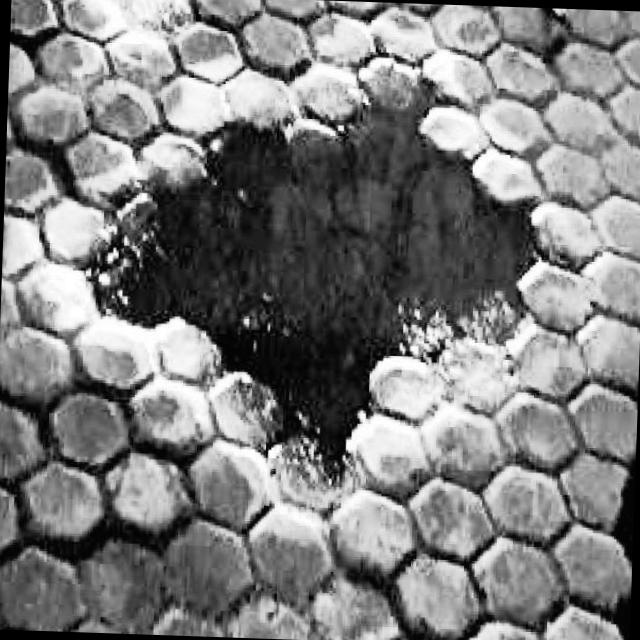Pothole: (43, 27, 580, 521)
